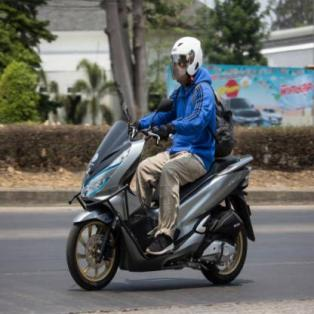Motocicleta: (62, 108, 252, 289)
